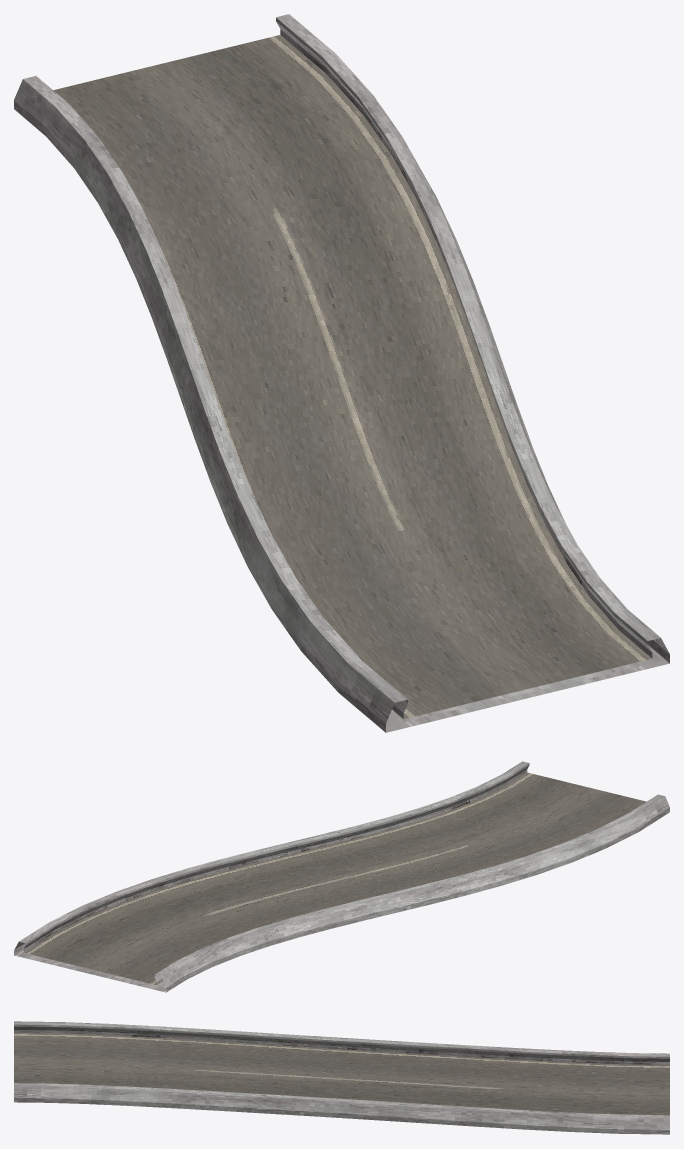
The model's file is road-Chicane-Flat-Flat-Up1-Right1-Size4.glb.
3 renders of one model, top to bottom at view 1: azimuth 30°, elevation 25°; view 2: azimuth 150°, elevation 25°; view 3: azimuth 270°, elevation 25°, orthographic. The views are drawn at different scales.
Parts seen in each view (by area): view 1: road-Chicane-Flat-Flat-Up1-Right1-Size4; view 2: road-Chicane-Flat-Flat-Up1-Right1-Size4; view 3: road-Chicane-Flat-Flat-Up1-Right1-Size4.
Part boxes in pixels (box(x1,y1,x2,y2)): road-Chicane-Flat-Flat-Up1-Right1-Size4: box(14, 14, 669, 732); road-Chicane-Flat-Flat-Up1-Right1-Size4: box(14, 761, 669, 992); road-Chicane-Flat-Flat-Up1-Right1-Size4: box(14, 1021, 669, 1134).
Bounding box in the file's own units: 2 × 0.3438 × 4.
Materials: 2 (2 with a texture image).
